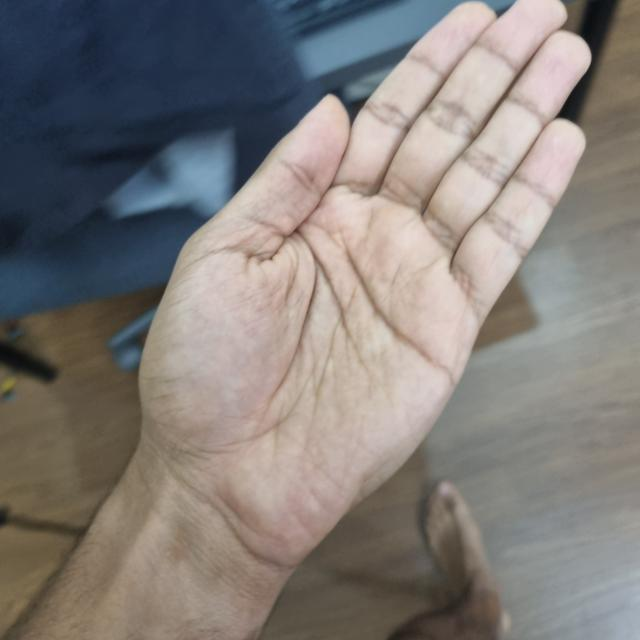Paper: (141, 0, 590, 553)
